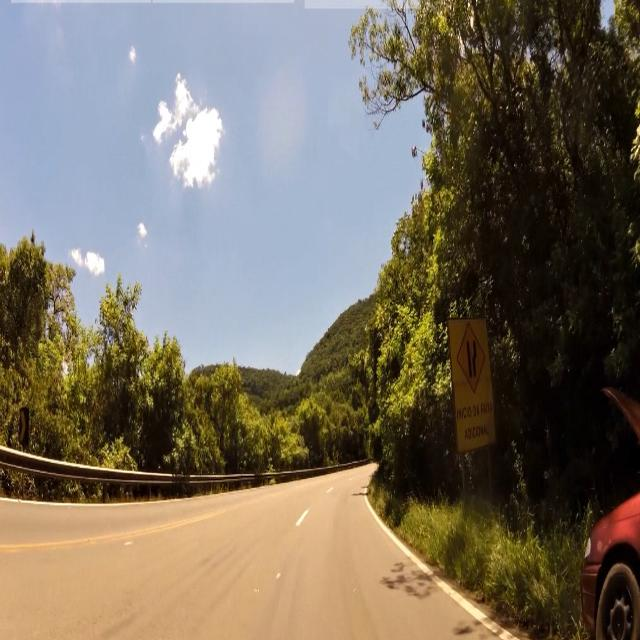A-21e: (453, 320, 488, 389)
